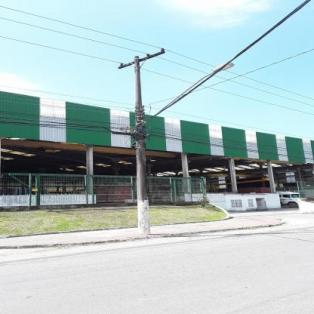Poste: (130, 53, 154, 232)
